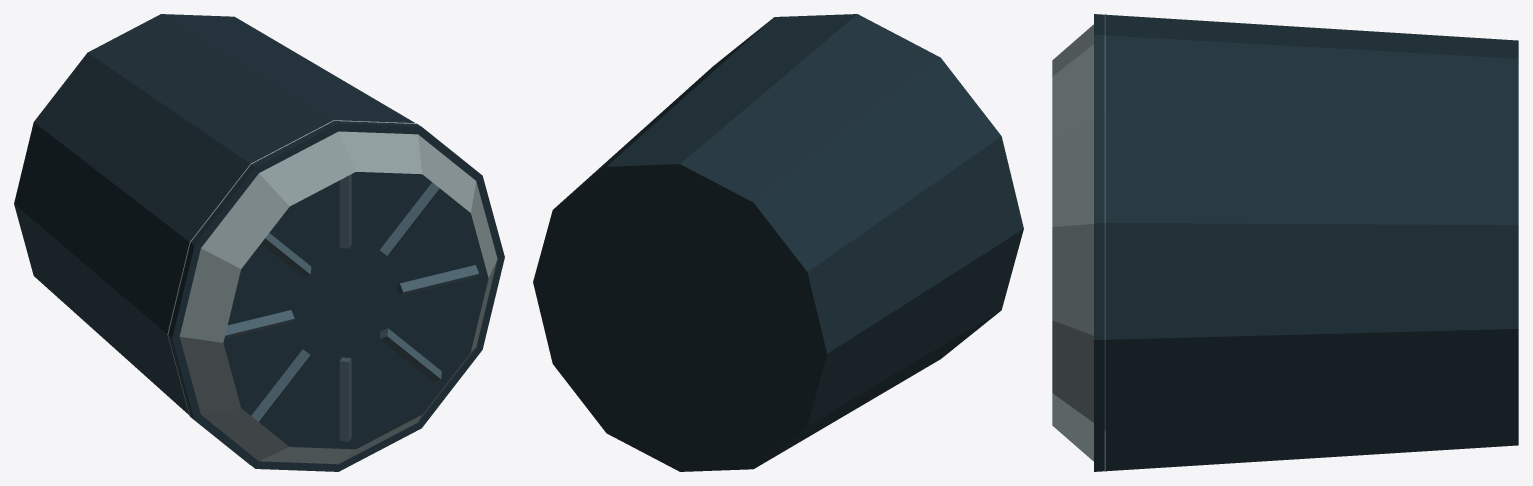
File: wreck_engine.glb
3 renders of one model, left to right at view 1: azimuth 30°, elevation 25°; view 2: azimuth 150°, elevation 25°; view 3: azimuth 270°, elevation 25°, orthographic. The views are drawn at different scales.
Parts seen in each view (by area): view 1: wreck_engine; view 2: wreck_engine; view 3: wreck_engine.
Boxes of the visible parts, x1,y1,x2,y2 form: wreck_engine: (14, 14, 504, 471); wreck_engine: (533, 14, 1023, 471); wreck_engine: (1052, 14, 1518, 471).
Bounding box in the file's own units: 2.76 × 2.76 × 2.8.
